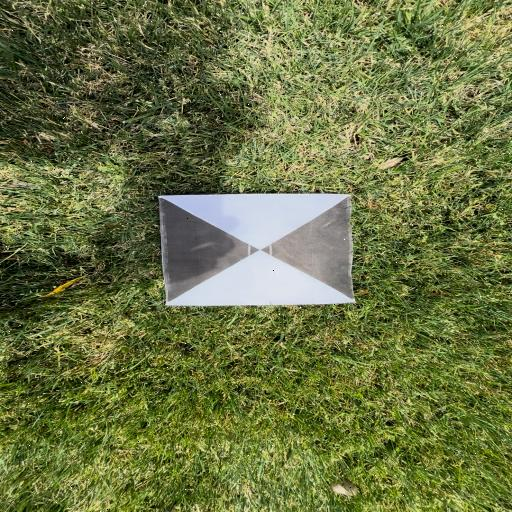target: (159, 195, 356, 306)
